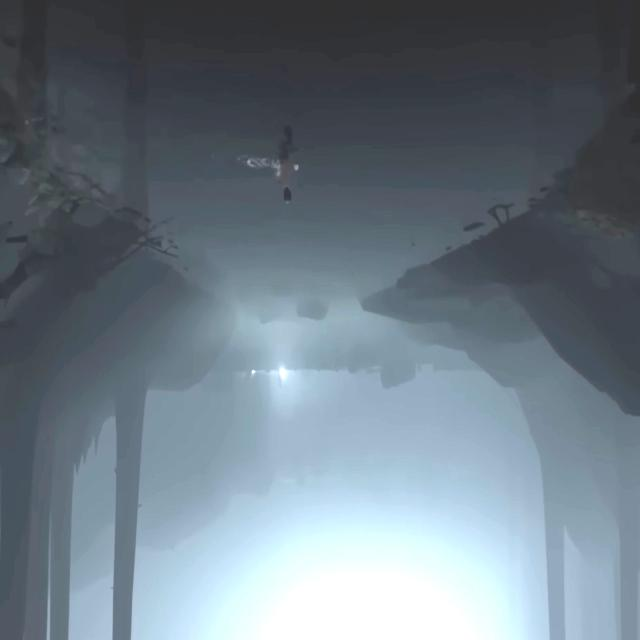boy: (275, 156, 299, 203)
